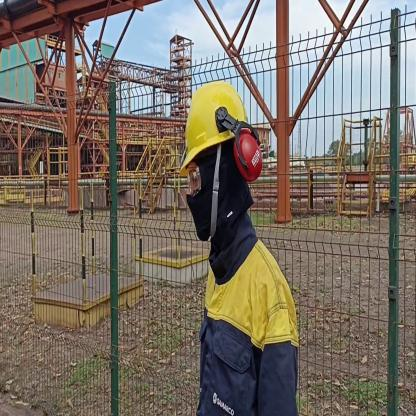Balaclava: (187, 150, 253, 244)
C_eletrica: (197, 245, 304, 416)
Capacete: (180, 76, 258, 160)
